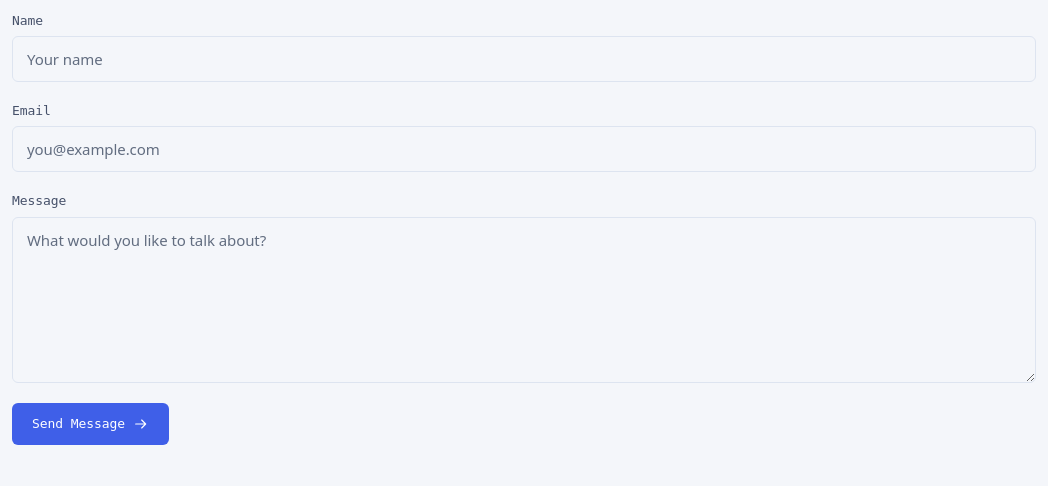
ContactForm › rejects a malformed email address inline
This screenshot has width=1048, height=486.
Type "Ada Lovelace" into the field labelled "Name".
click(524, 59); type("Ada Lovelace")  # box [12,36,1036,82]
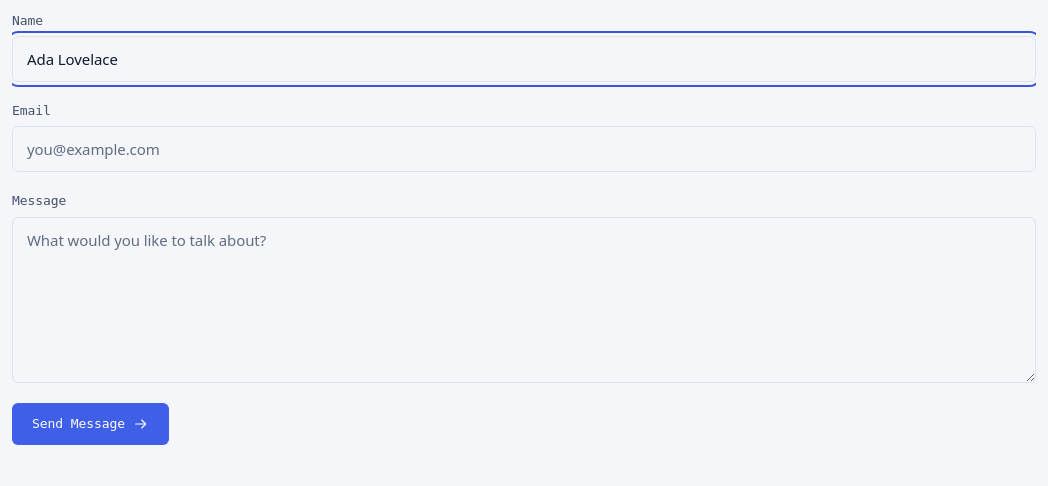
Type "not-an-email" into the field labelled "Email".
click(524, 149); type("not-an-email")  # box [12,126,1036,172]
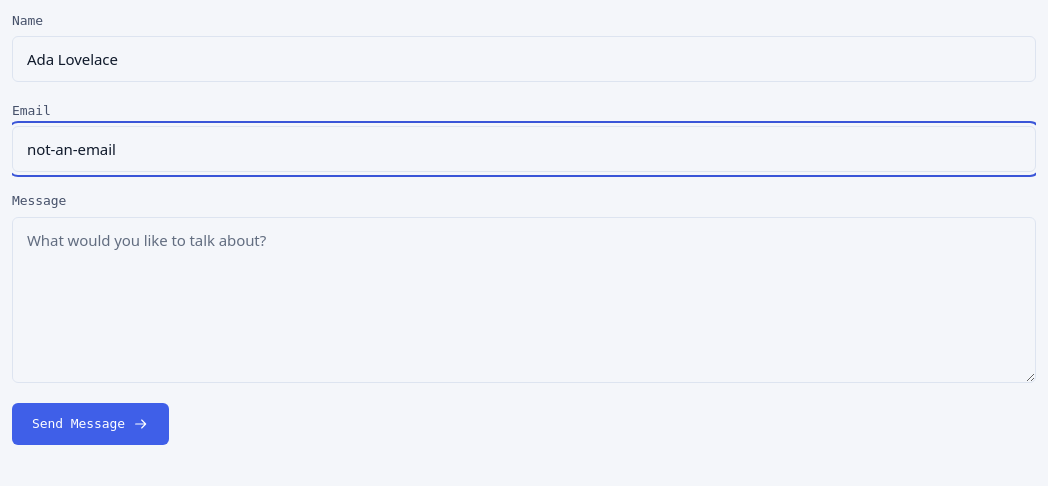
Type "Hello from the tests." into the text box labelled "Message".
click(524, 300); type("Hello from the tests.")  # box [12,217,1036,383]
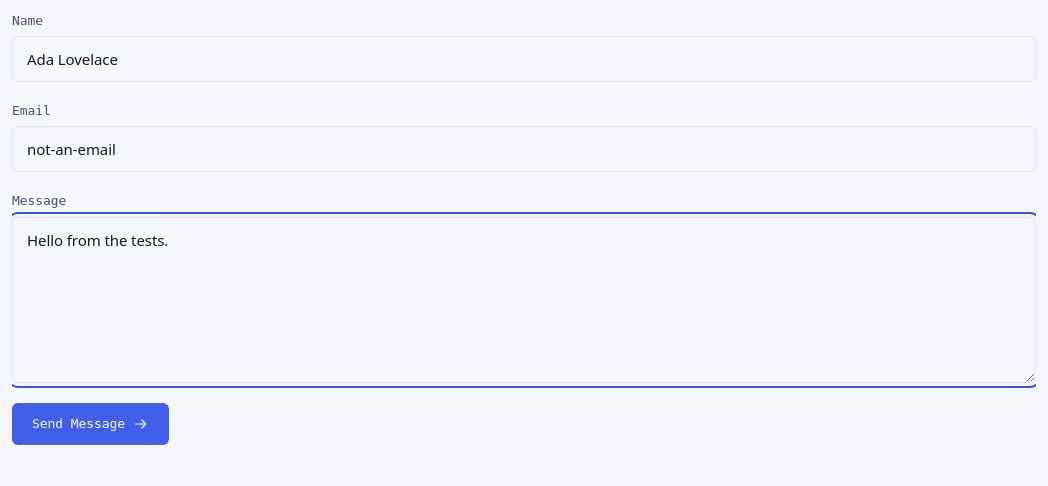
Click the button "Send Message".
click(90, 424)  # box [12,403,169,445]
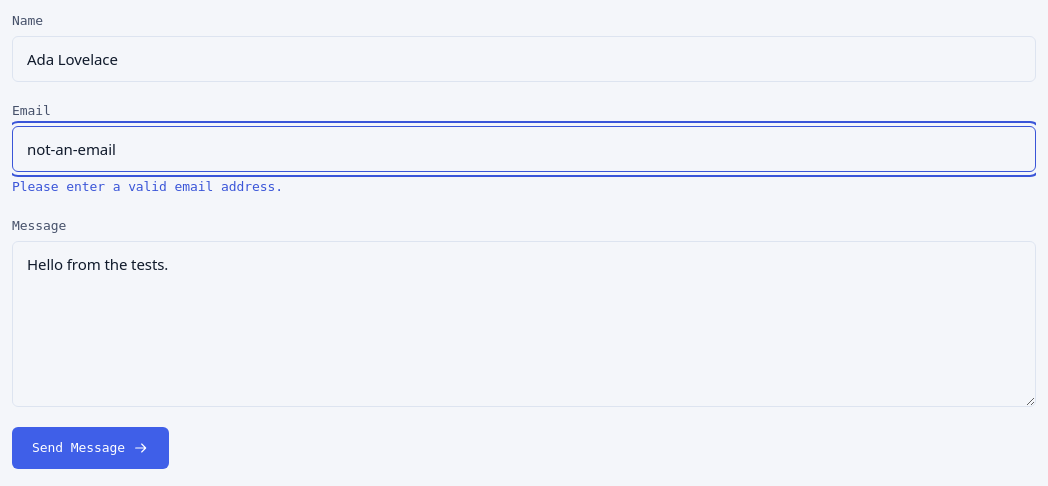
Expected: the text "Please enter a valid email address." is shown, [12,179,283,194]
